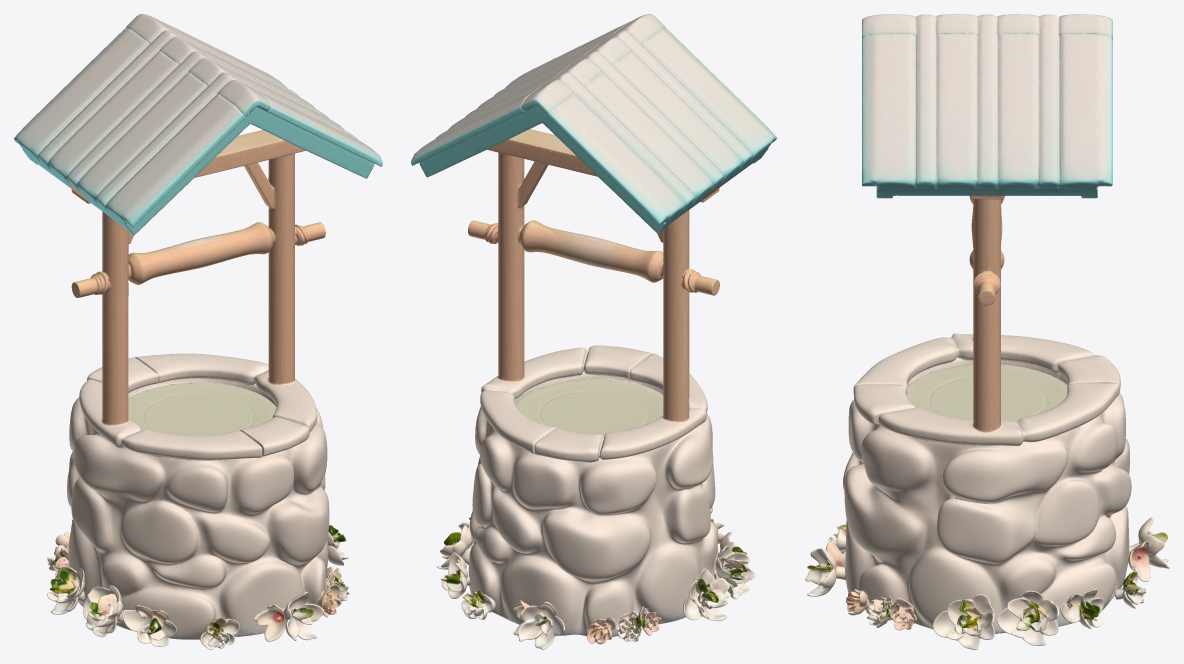
The model's file is Style2_Well.glb.
The picture shows the model from 3 angles, left to right: view 1: azimuth 30°, elevation 25°; view 2: azimuth 150°, elevation 25°; view 3: azimuth 270°, elevation 25°; orthographic projection. The views are drawn at different scales.
Bounding box in the file's own units: 1.04 × 1.9 × 1.11.
1 material, 1 textured.
